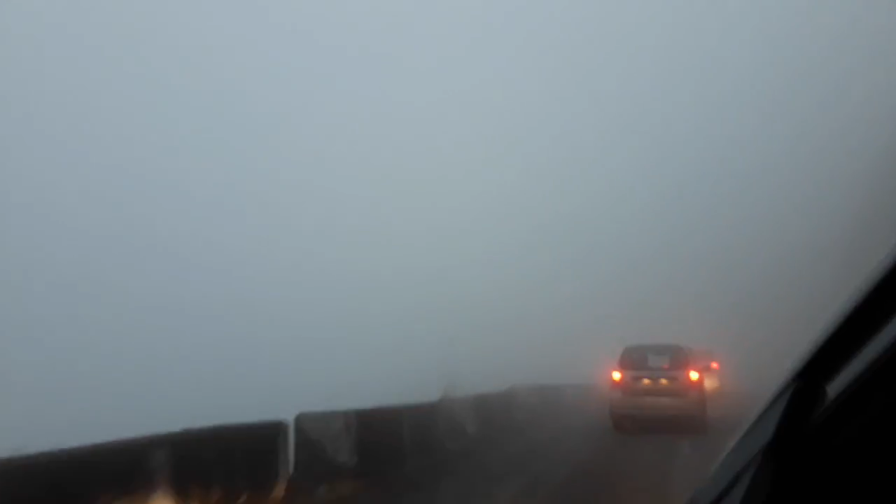car: (607, 343, 705, 431), (662, 345, 722, 397)
